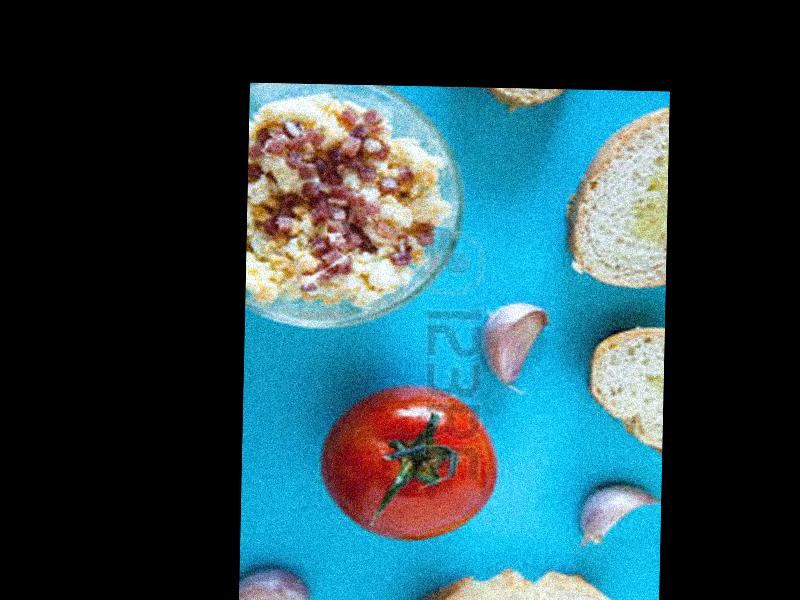Tomato: (320, 390, 500, 542)
